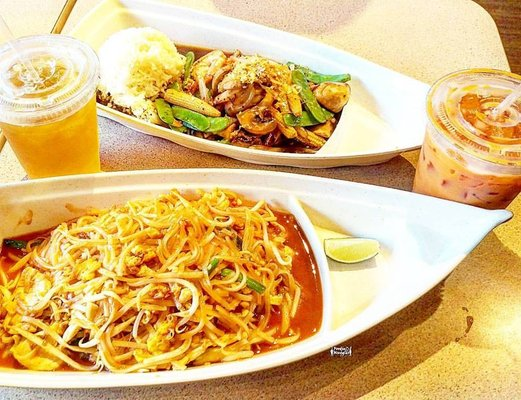pizza: (412, 68, 521, 211), (0, 33, 101, 180)
sushi: (0, 184, 330, 382)
